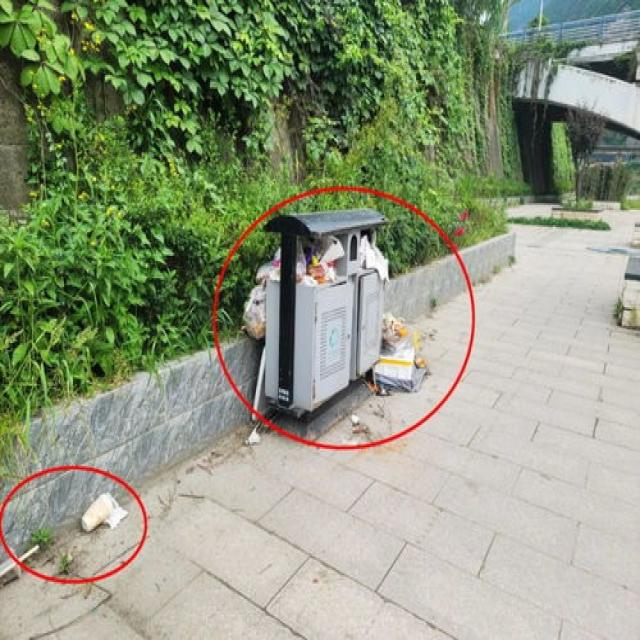garbage: (372, 309, 429, 392)
overflow: (242, 206, 388, 437)
